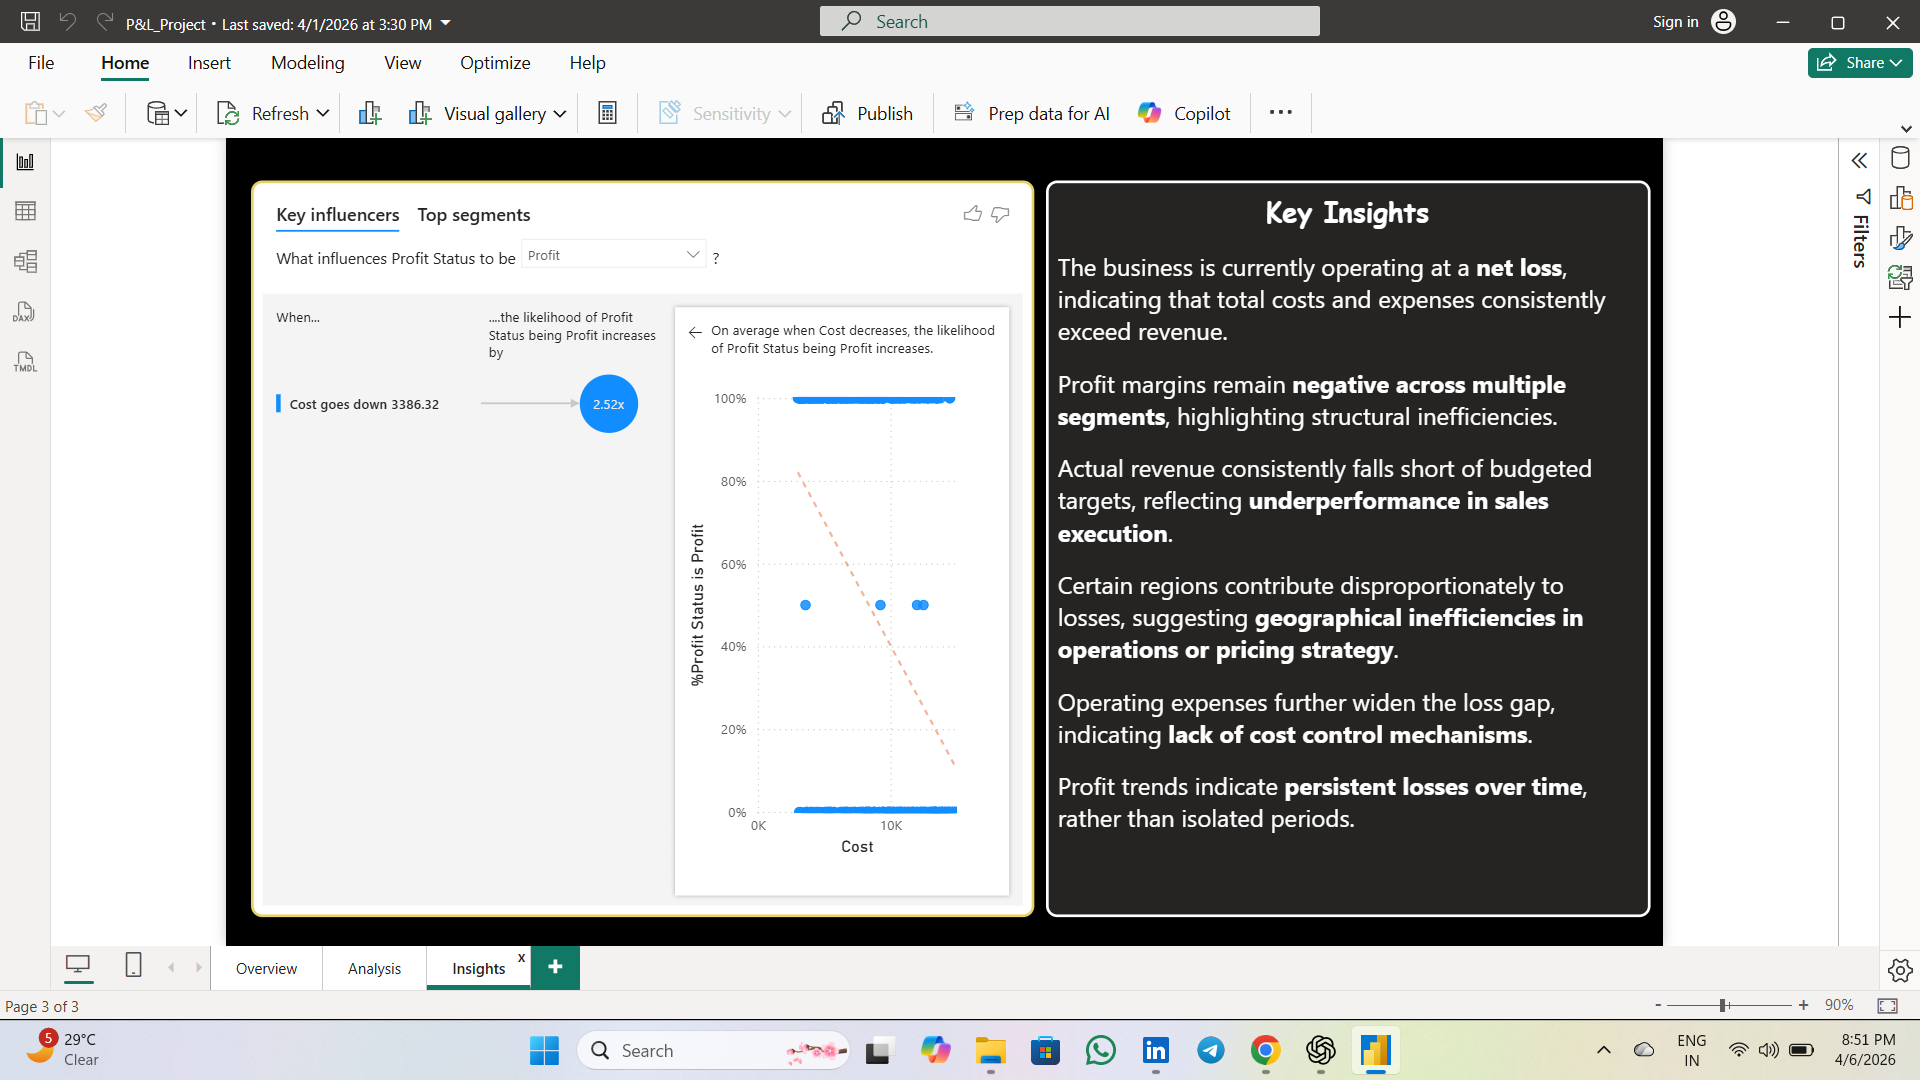

What the dashboard file says about the page in this screenshot:
{"tool":"powerbi","page":{"name":"Insights","canvas":[1280,720],"ordinal":2},"visuals":[{"type":"keyDriversVisual","fields":{"ExplainBy":["P&L_Dataset.Region","P&L_Dataset.Product","Sum(P&L_Dataset.Cost)"],"Target":["P&L_Dataset.Profit Status"]},"box":[21.7,37.4,697.3,656.3],"z":0},{"type":"textbox","box":[729.9,37.4,538.1,656.3],"z":1000}]}

Visuals, with their boxes on the page's 1280x720 design canvas (x1, y1, x2, y2). These are canvas units, not pixel positions in the 1920x1080 screenshot, which may show the page scaled, cropped or inside an application window:
keyDriversVisual - P&L_Dataset.Region x P&L_Dataset.Product: (x1=22, y1=37, x2=719, y2=694)
textbox: (x1=730, y1=37, x2=1268, y2=694)
